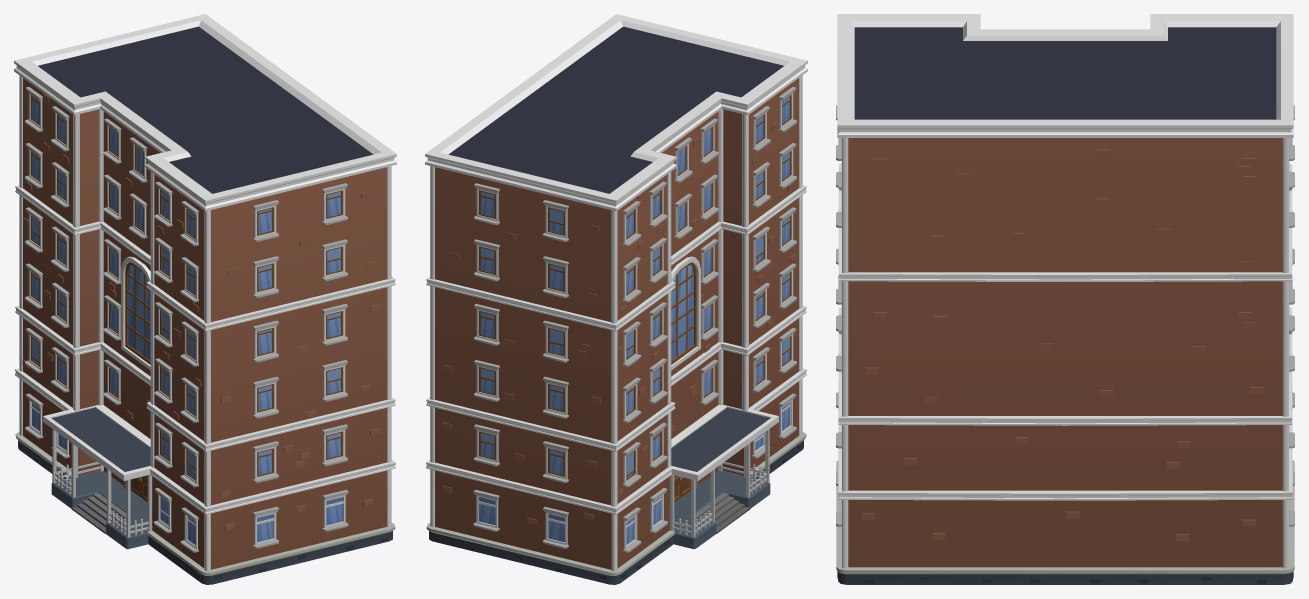
File: Building_5_4_I.fbx
The picture shows the model from 3 angles, left to right: view 1: azimuth 30°, elevation 25°; view 2: azimuth 150°, elevation 25°; view 3: azimuth 270°, elevation 25°; orthographic projection. The views are drawn at different scales.
Parts seen in each view (by area): view 1: Building_5_4_I; view 2: Building_5_4_I; view 3: Building_5_4_I.
Part boxes in pixels (x1,y1,x2,y2): Building_5_4_I: (14,14,396,584); Building_5_4_I: (425,14,807,584); Building_5_4_I: (836,14,1294,584).
Size of the model in its own units: 1251 by 2109 by 1908.
